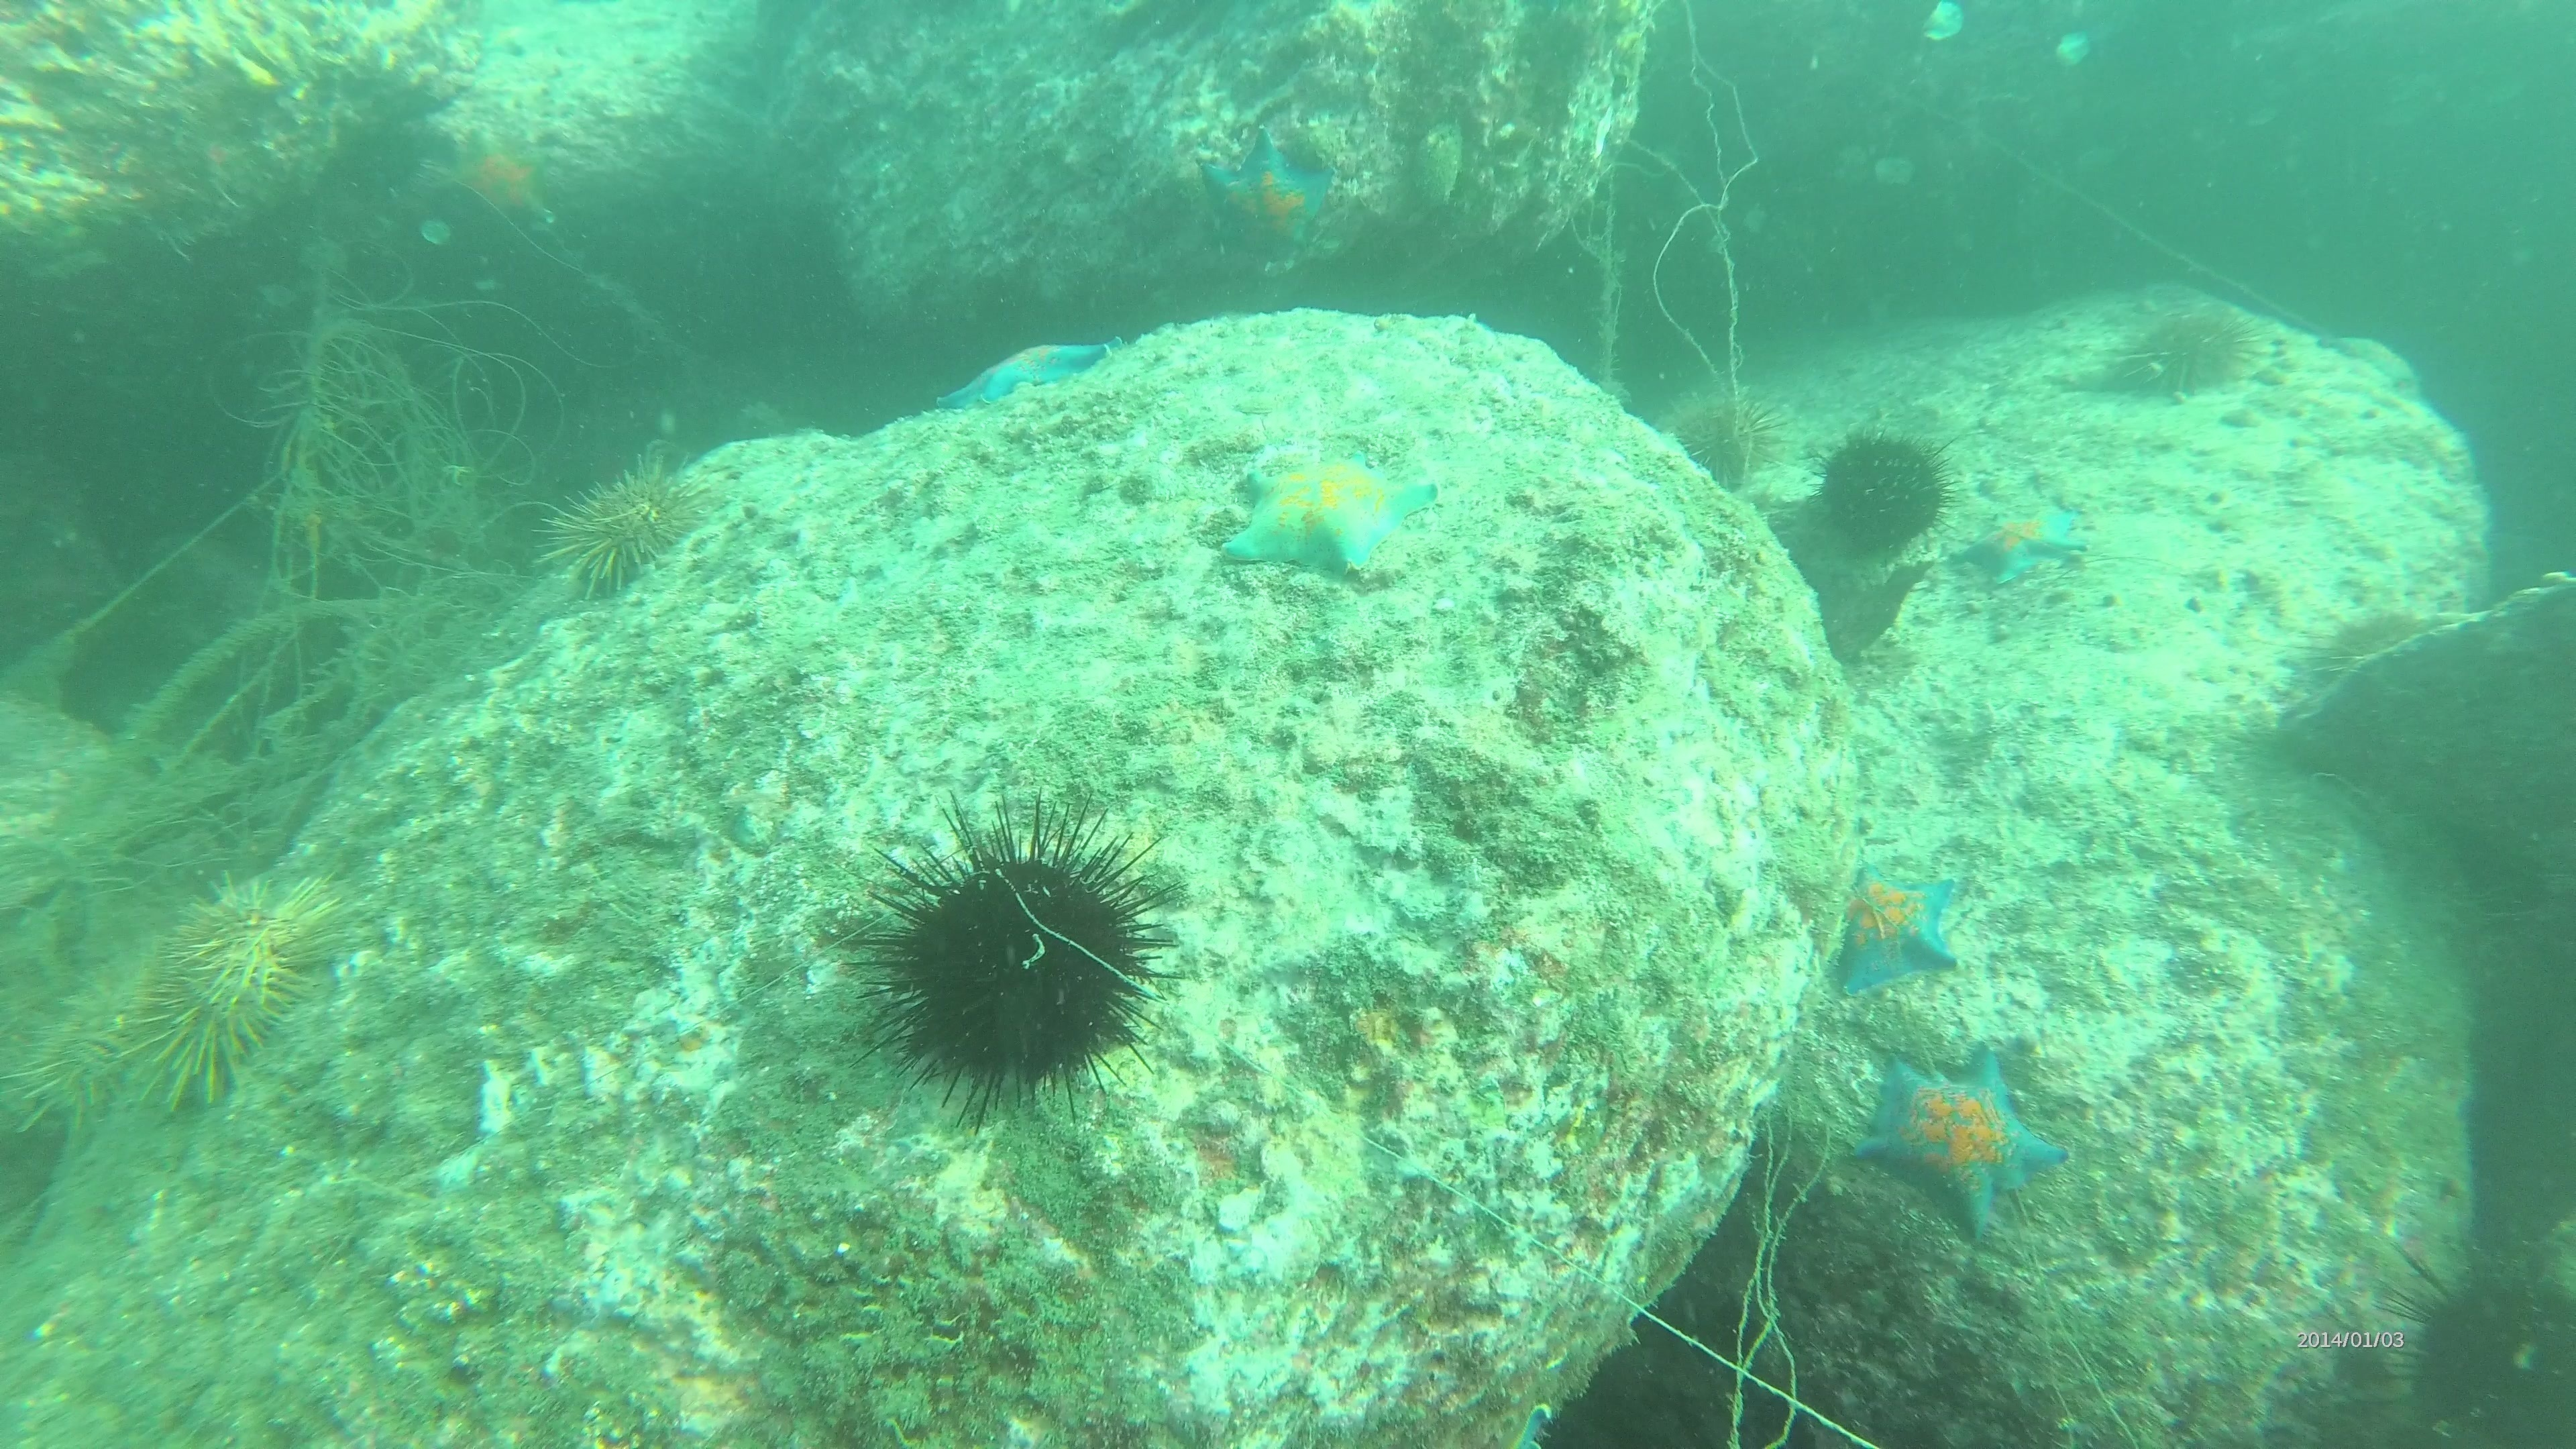echinus: (853, 796, 1180, 1120), (136, 863, 356, 1097), (2385, 1240, 2576, 1444), (2277, 600, 2466, 773), (11, 966, 170, 1141), (536, 451, 715, 603), (1808, 423, 1957, 564), (2102, 292, 2266, 407), (1652, 375, 1792, 495), (320, 110, 435, 221)
starfish: (1849, 1039, 2068, 1242), (1214, 446, 1440, 586), (1196, 126, 1346, 271), (1822, 856, 1971, 998), (931, 333, 1115, 418), (1951, 488, 2091, 591), (441, 122, 564, 237), (1491, 1398, 1555, 1449)
